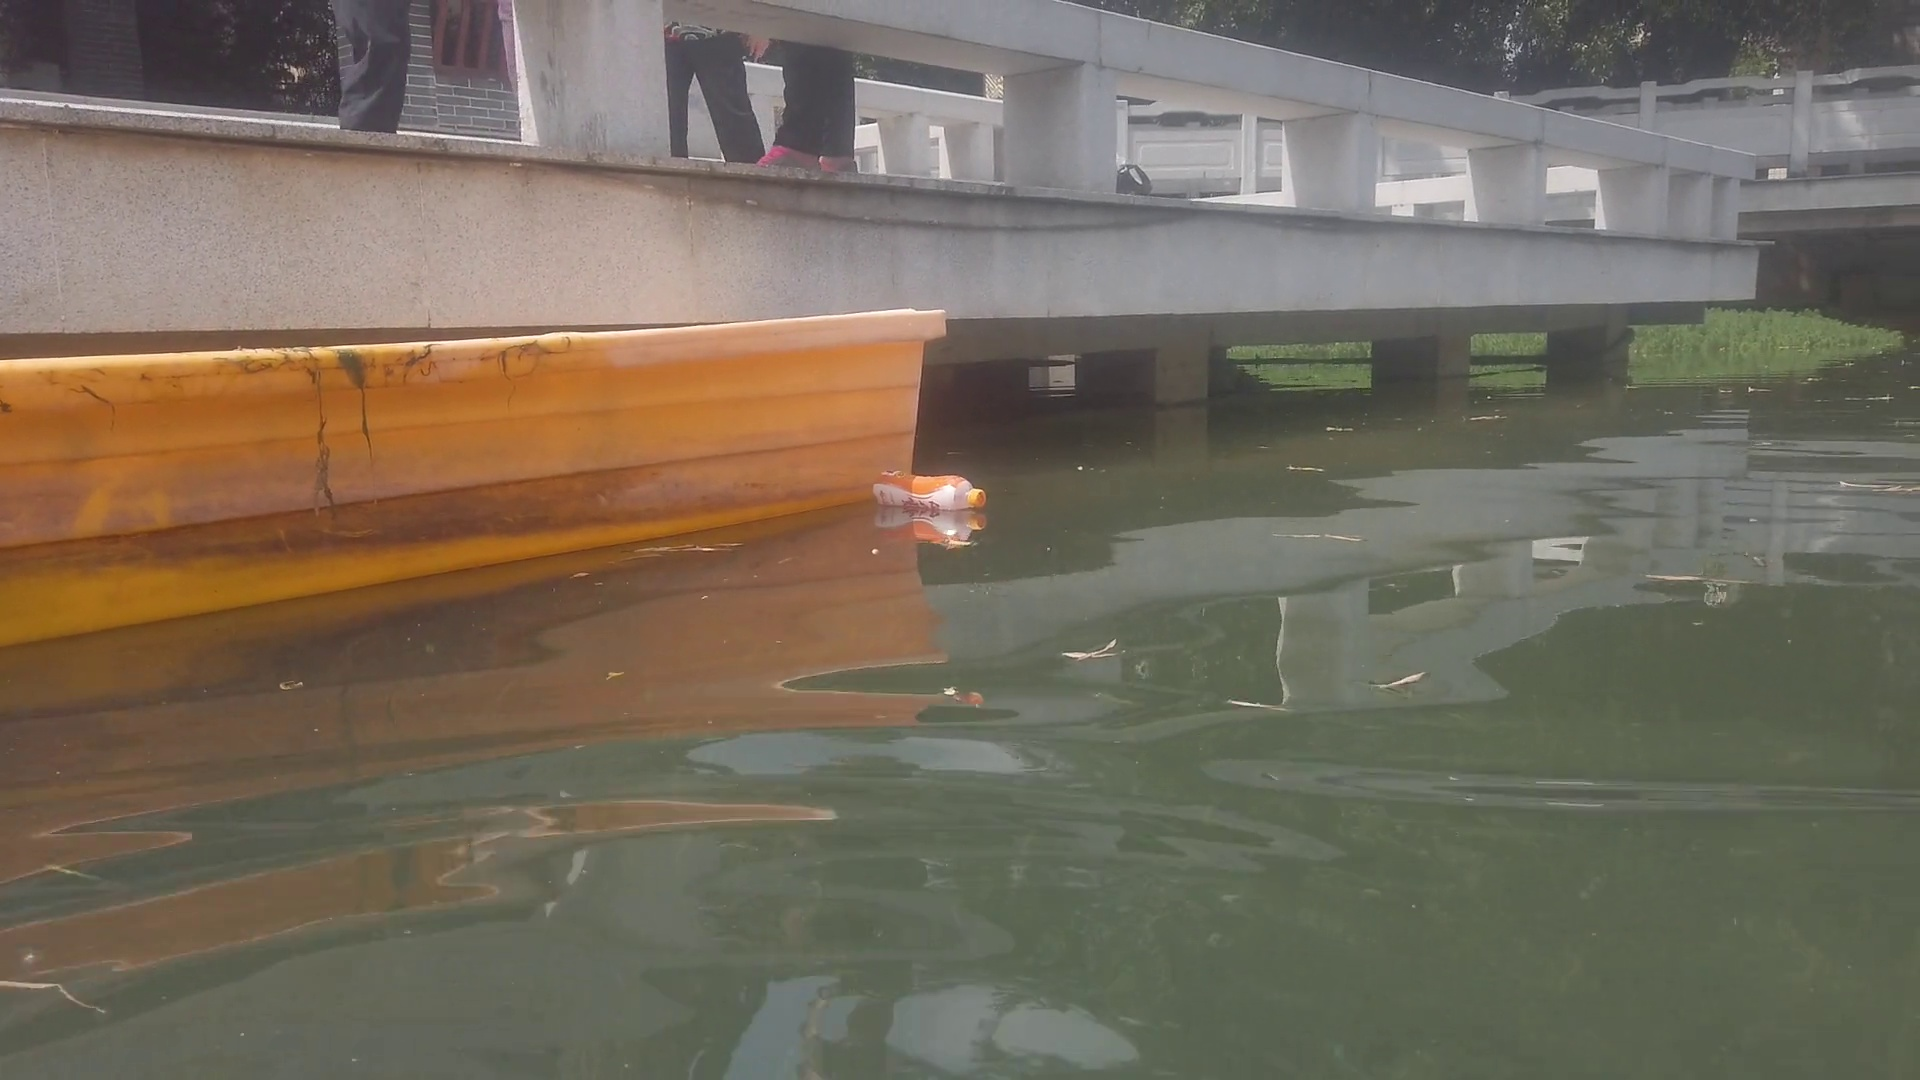bottle: (873, 469, 990, 514)
